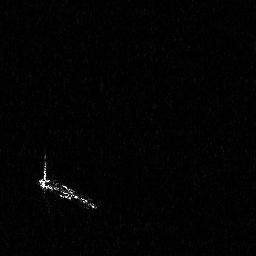ship: (35, 152, 99, 215)
